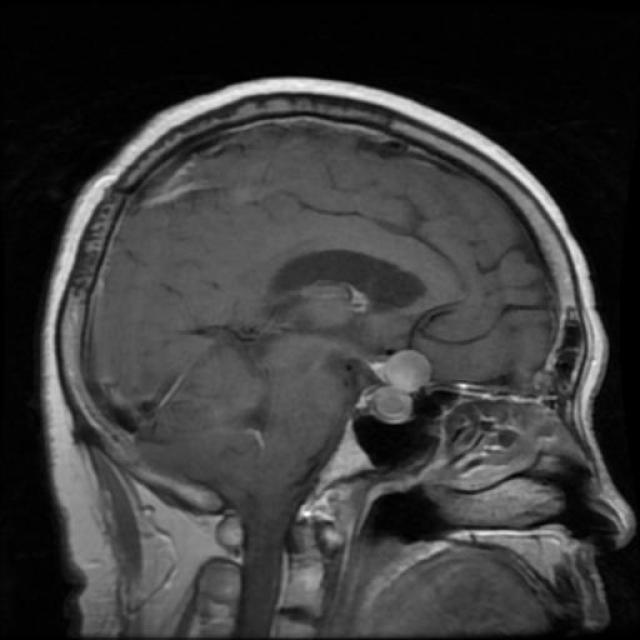pituitary: (348, 335, 450, 440)
